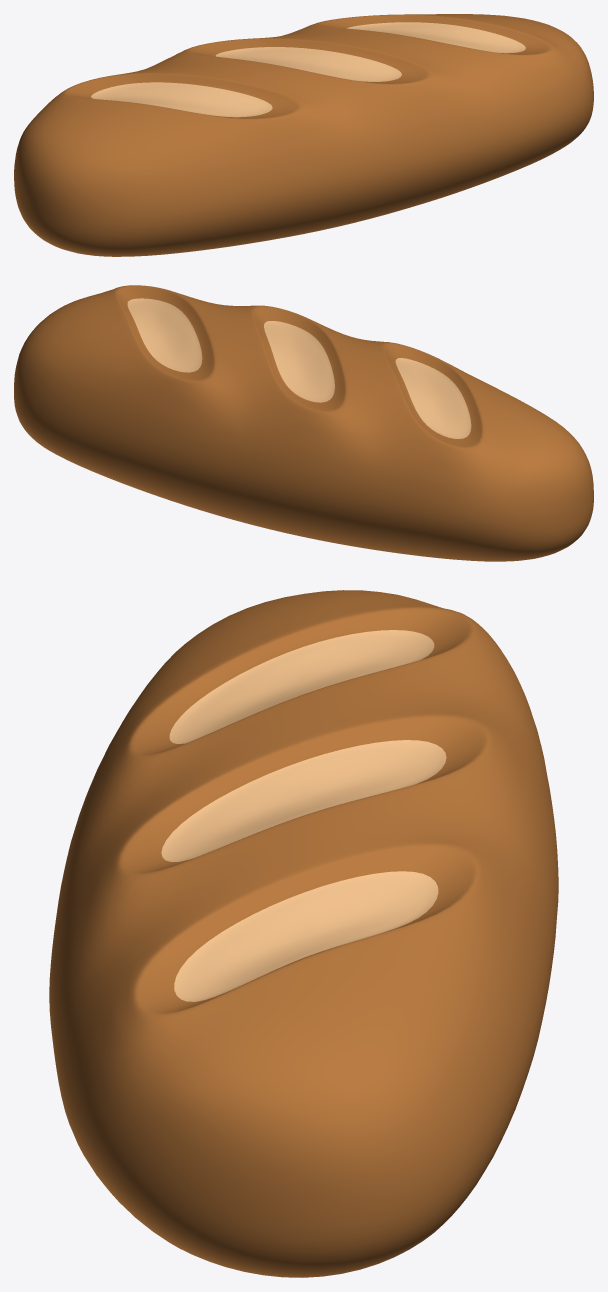
Rendered from pan_blender.fbx.
3 views of the same model, one above another, from view 1: azimuth 30°, elevation 25°; view 2: azimuth 150°, elevation 25°; view 3: azimuth 270°, elevation 25° (orthographic). The views are drawn at different scales.
Parts seen in each view (by area): view 1: Cube; view 2: Cube; view 3: Cube.
Part boxes in pixels (<box>): Cube: <box>14,14,593,256</box>; Cube: <box>14,285,593,561</box>; Cube: <box>49,590,558,1277</box>.
Bounding box in the file's own units: 618 × 172 × 252.
